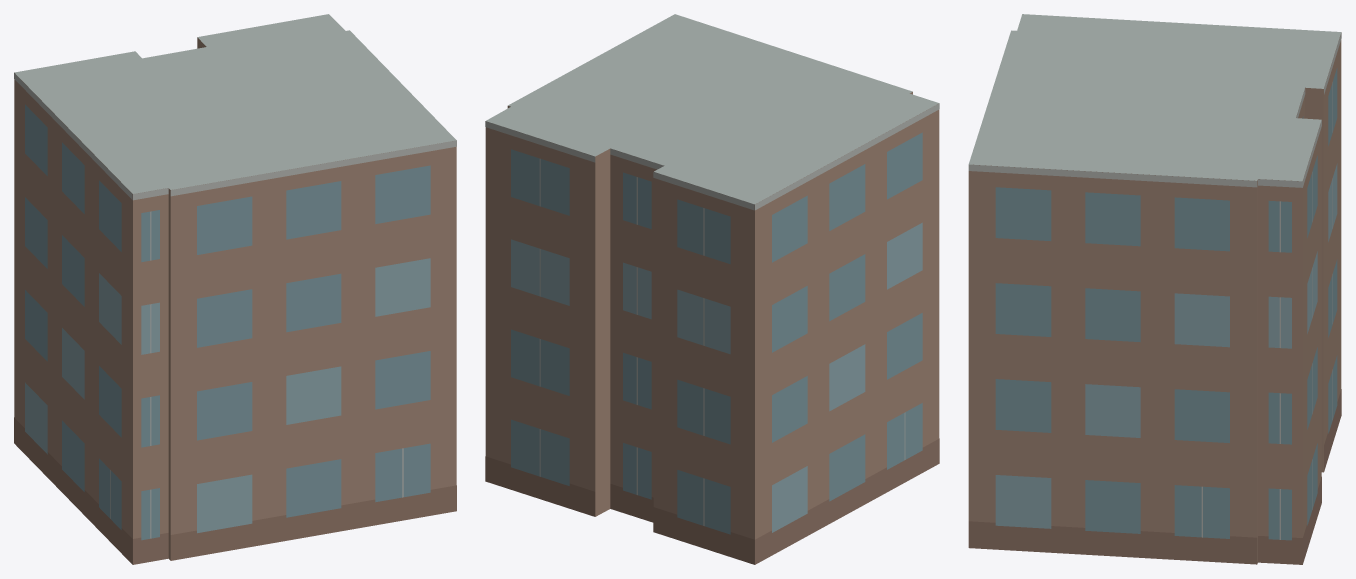
The model's file is survey-upis-33047121.glb.
3 views of the same model, side by side, from view 1: azimuth 30°, elevation 25°; view 2: azimuth 150°, elevation 25°; view 3: azimuth 270°, elevation 25° (orthographic). The views are drawn at different scales.
Parts seen in each view (by area): view 1: survey-upis-33047121.tmp; view 2: survey-upis-33047121.tmp; view 3: survey-upis-33047121.tmp.
Part boxes in pixels (bbox=[...]): survey-upis-33047121.tmp: bbox=[14, 14, 456, 564]; survey-upis-33047121.tmp: bbox=[485, 14, 939, 564]; survey-upis-33047121.tmp: bbox=[968, 14, 1341, 564].
Size of the model in its own units: 13.42 by 14.33 by 12.63.
